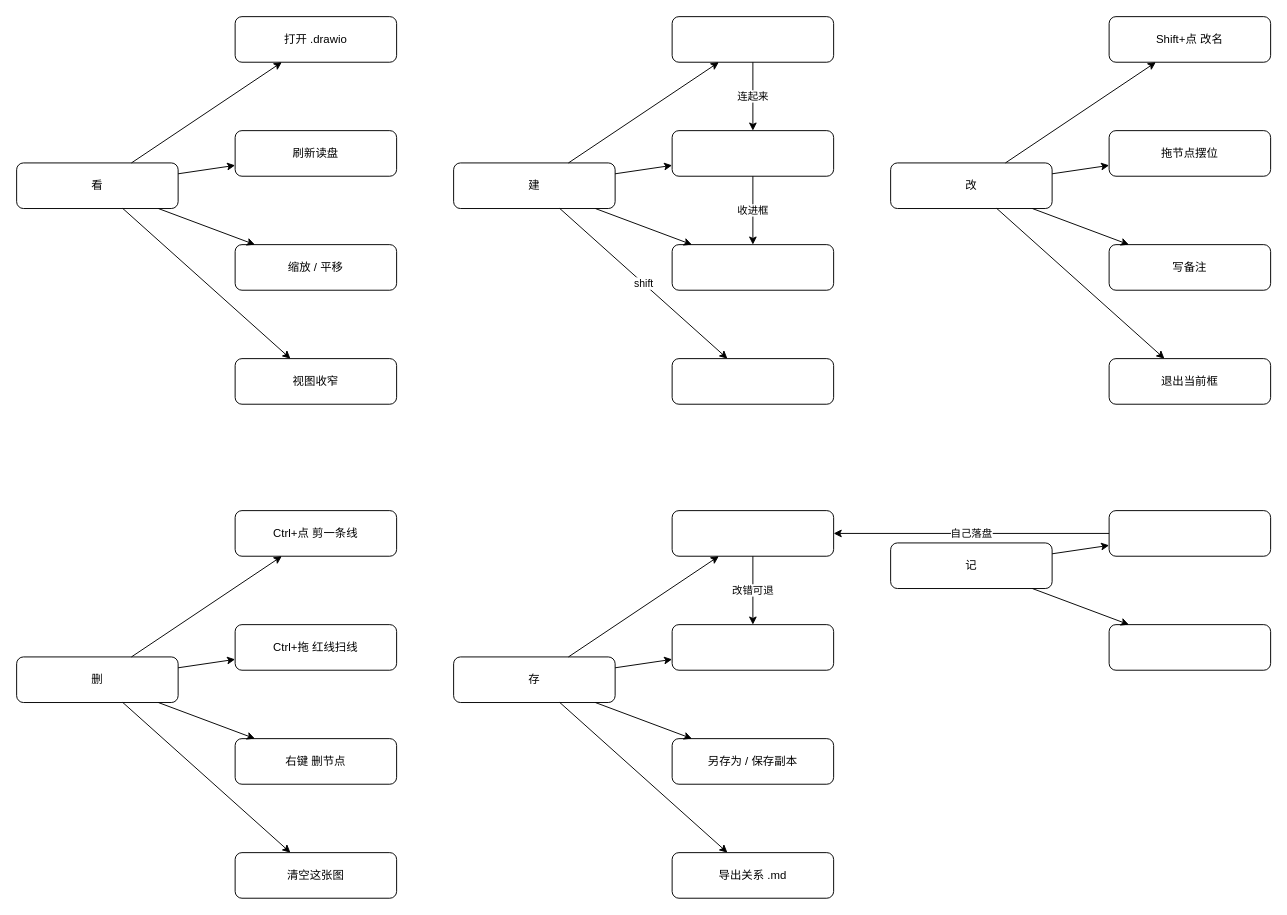
This 1287x915 diagram has some shape labels left out. Here are the shapes that lost their labels. From the top down, the box of each, then its label:
(671, 16, 834, 62): 加节点
(671, 130, 834, 176): 拖端口拉线
(671, 244, 834, 290): Shift+拖空白 拉框
(671, 358, 834, 404): 关联分身
(671, 510, 834, 556): Ctrl+S 保存
(1108, 510, 1271, 556): AI 写文件即记
(671, 624, 834, 670): Ctrl+Z 回退
(1108, 624, 1271, 670): 扫描项目文件
